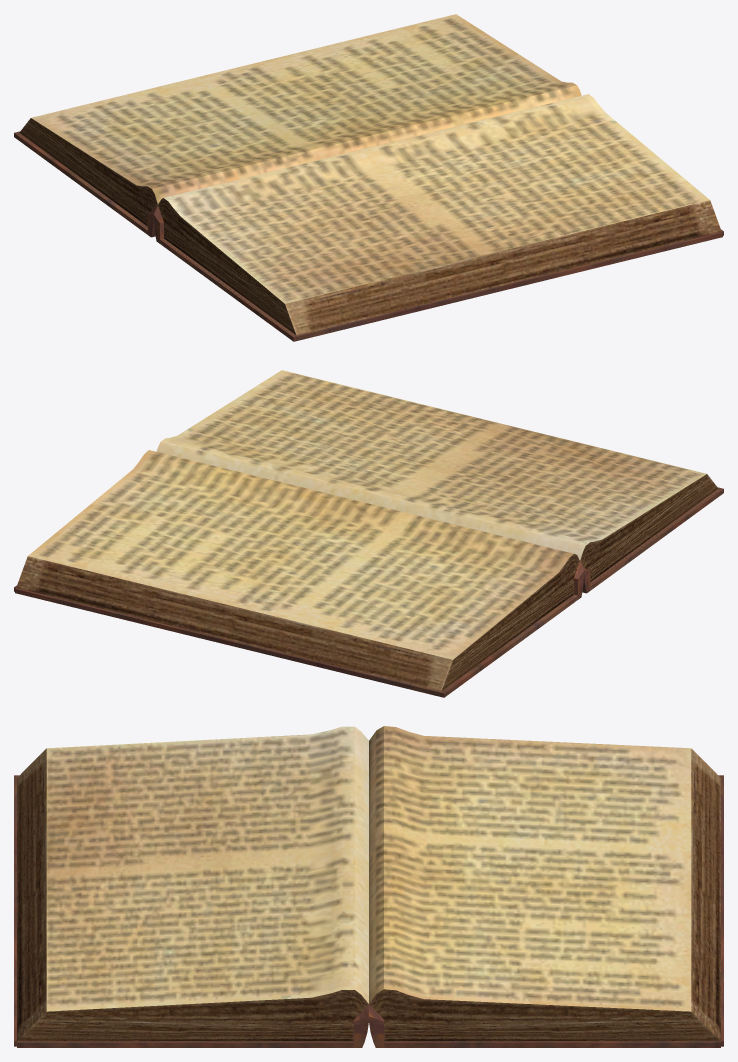
The model's file is Prop_Book_OpenB.fbx.
3 views of the same model, one above another, from view 1: azimuth 30°, elevation 25°; view 2: azimuth 150°, elevation 25°; view 3: azimuth 270°, elevation 25° (orthographic). The views are drawn at different scales.
Parts seen in each view (by area): view 1: Cube_022; view 2: Cube_022; view 3: Cube_022.
Part boxes in pixels (x1,y1,x2,y2): Cube_022: (14, 14, 723, 341); Cube_022: (14, 370, 723, 697); Cube_022: (14, 726, 723, 1047).
Bounding box in the file's own units: 1.32 × 0.1318 × 1.48.
